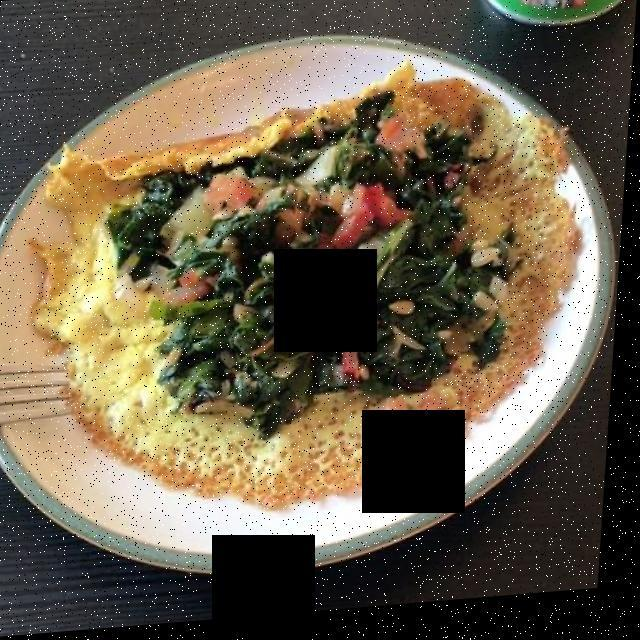cheese: (105, 116, 521, 461)
tofu: (36, 89, 584, 517)
